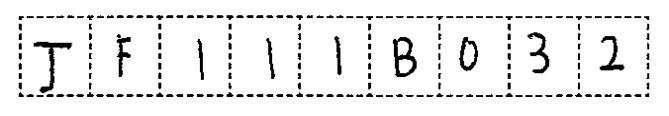0: (450, 32, 486, 76)
1: (251, 34, 287, 84), (323, 32, 355, 82), (185, 32, 214, 86)
2: (592, 28, 631, 80)
3: (518, 25, 559, 79)
B: (385, 31, 424, 82)
F: (102, 33, 142, 81)
J: (26, 38, 77, 94)
